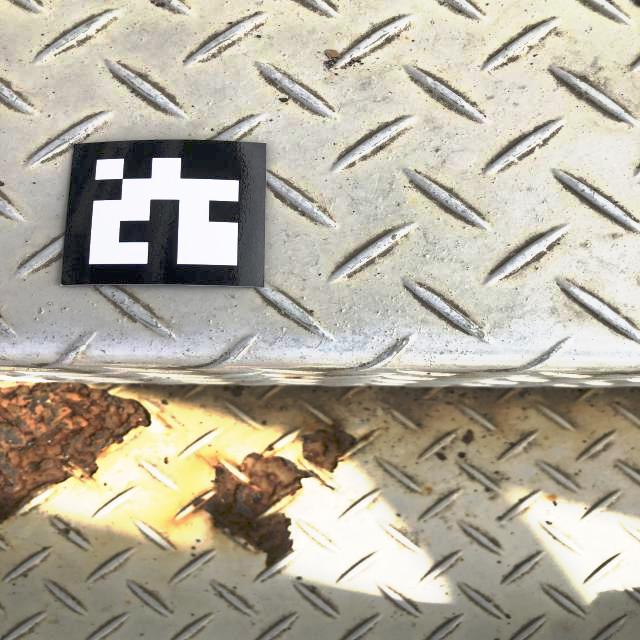Corrosion: (0, 382, 152, 523), (194, 453, 313, 571), (297, 422, 372, 473)
